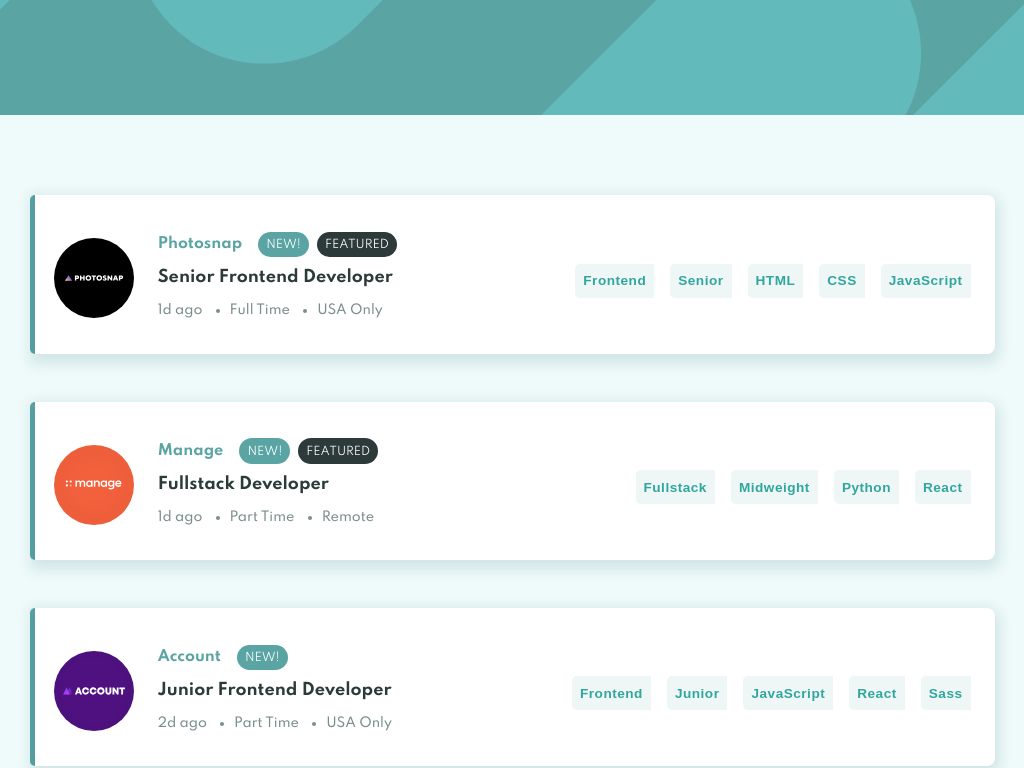
Test: Testing the component › shows related text when the button is clicked
What coordinates should you click on to do the following:
click the button "Frontend" in the row of "Senior Frontend Developer"
I would click on:
 (615, 281)
Its box is [575, 264, 654, 298].
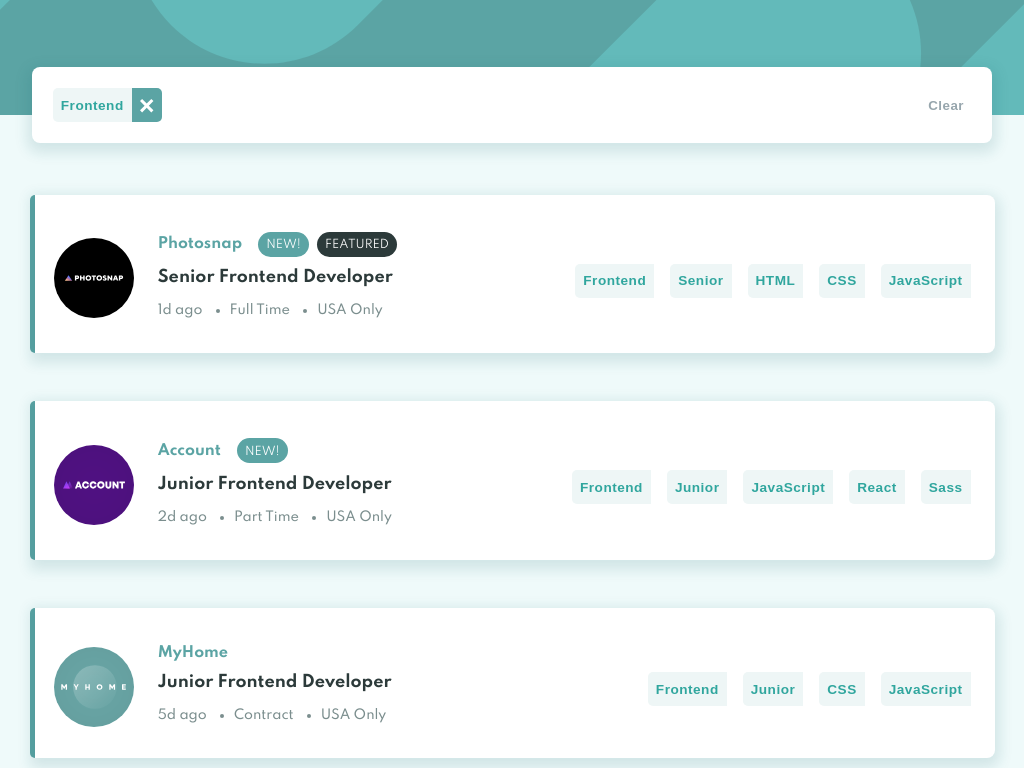
Expected: the 1st button "Frontend" is shown, [53, 88, 132, 122]
What coordinates should you click on to do the following:
click the button "Senior"
I would click on:
 (701, 281)
Its box is [670, 264, 732, 298].
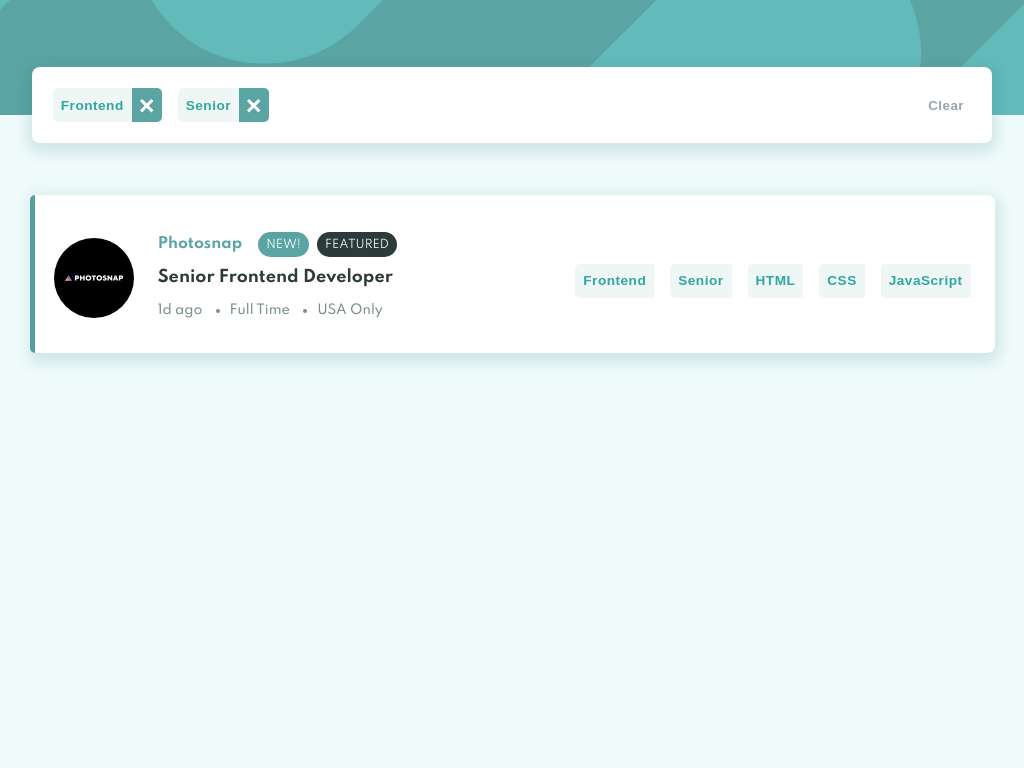
Expected: the 1st button "Senior" is shown, [178, 88, 239, 122]
